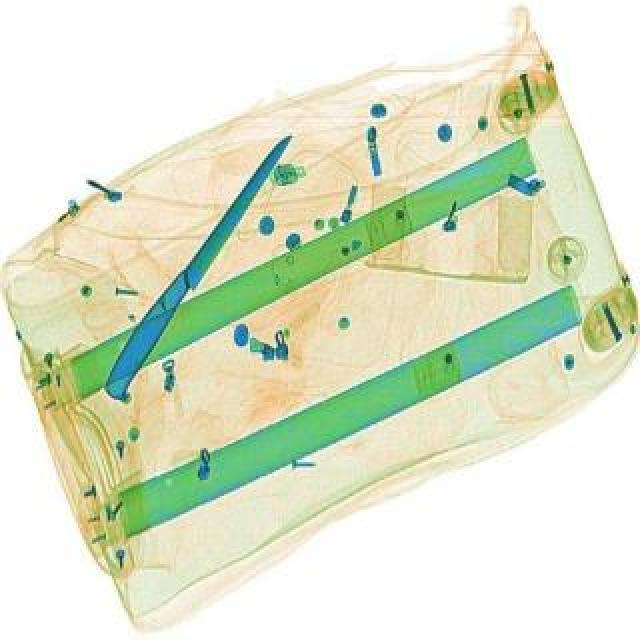knife: (96, 128, 296, 406)
